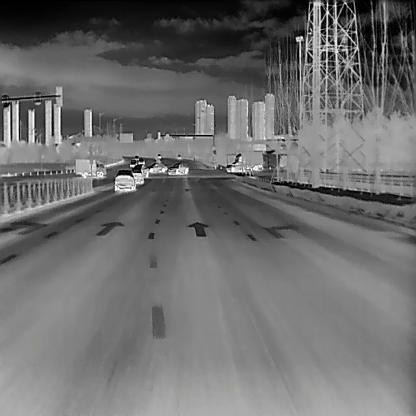car: (113, 168, 135, 192), (225, 160, 249, 171), (166, 162, 188, 174), (146, 161, 168, 171), (131, 169, 143, 184), (129, 158, 136, 166), (137, 156, 144, 163), (156, 152, 161, 158), (176, 153, 181, 158), (134, 154, 138, 160)
truck: (73, 157, 105, 175), (235, 150, 262, 170)
